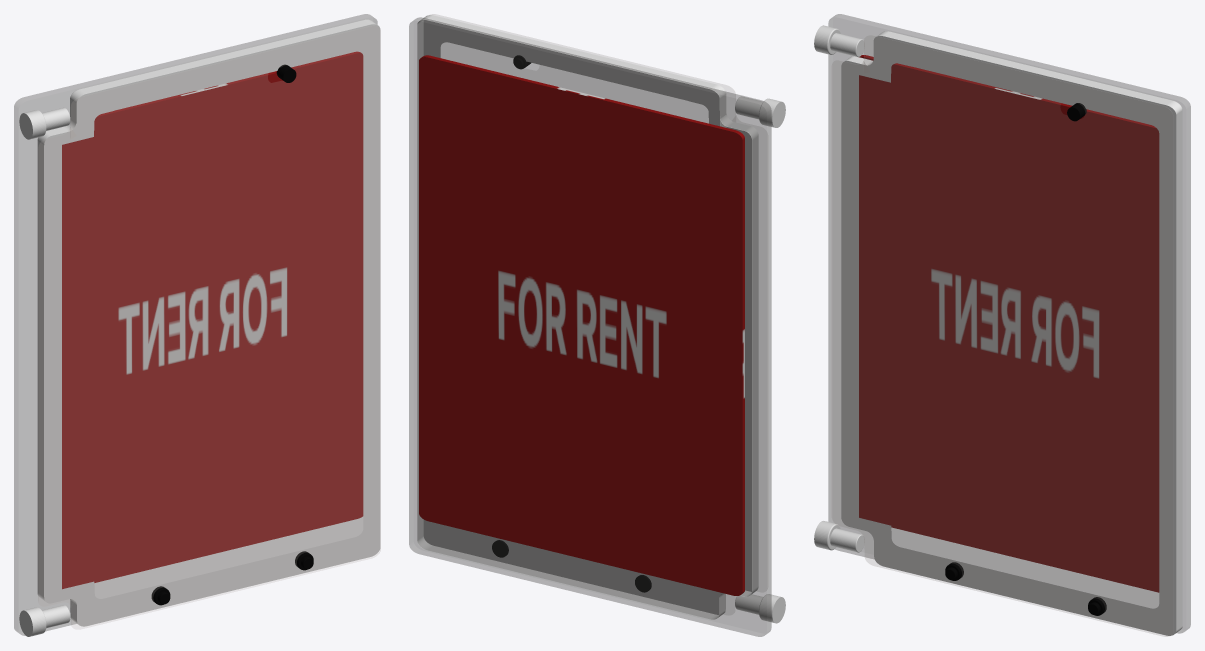
The model's file is a4vertlf8.glb.
The picture shows the model from 3 angles, left to right: view 1: azimuth 30°, elevation 25°; view 2: azimuth 150°, elevation 25°; view 3: azimuth 330°, elevation 25°; orthographic projection.
Parts seen in each view (by area): view 1: a4vertoneinittwo; view 2: a4vertoneinittwo; view 3: a4vertoneinittwo.
Part boxes in pixels (left/top/right/bottom): a4vertoneinittwo: left=14, top=14, right=380, bottom=636; a4vertoneinittwo: left=409, top=14, right=785, bottom=636; a4vertoneinittwo: left=814, top=14, right=1190, bottom=636.
Bounding box in the file's own units: 0.2041 × 0.2905 × 0.0187.
6 materials, 1 textured.
